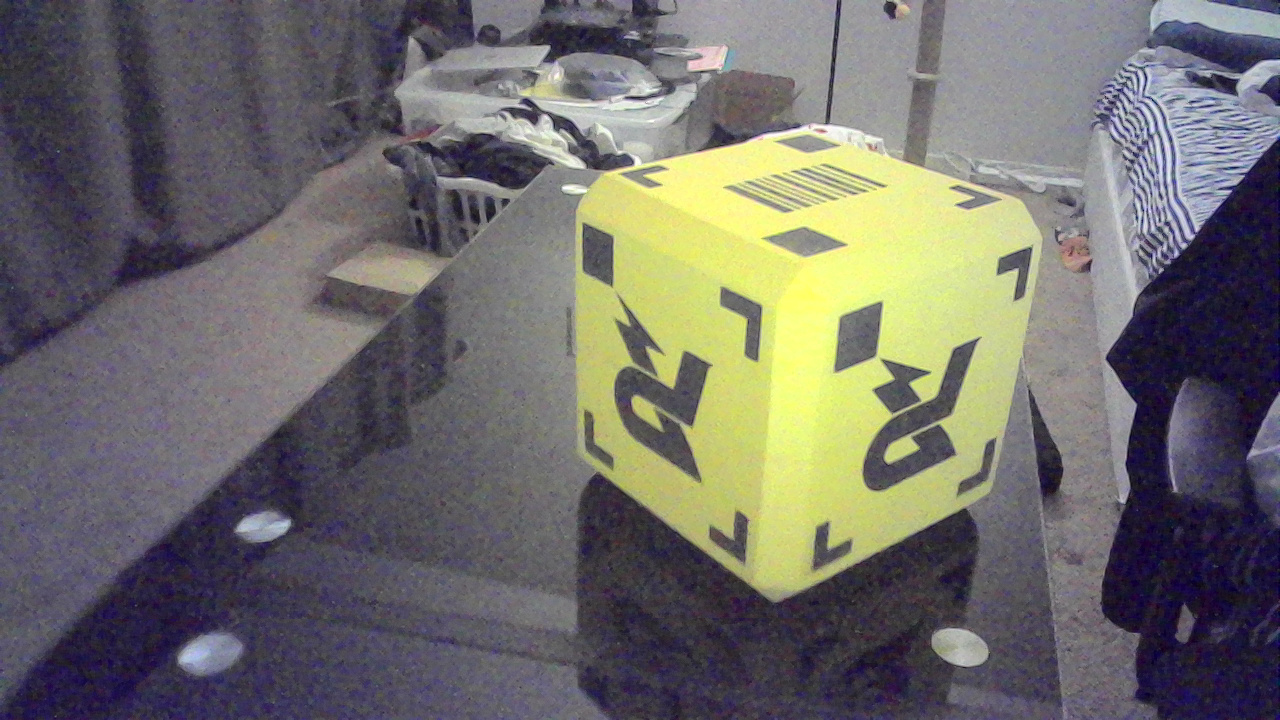Barcode: (718, 158, 905, 230)
R: (599, 305, 739, 493), (851, 353, 979, 493)
